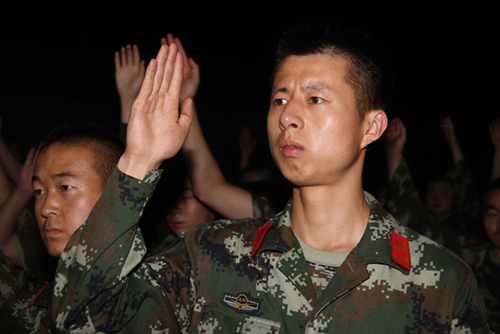handsup: (47, 43, 492, 330)
